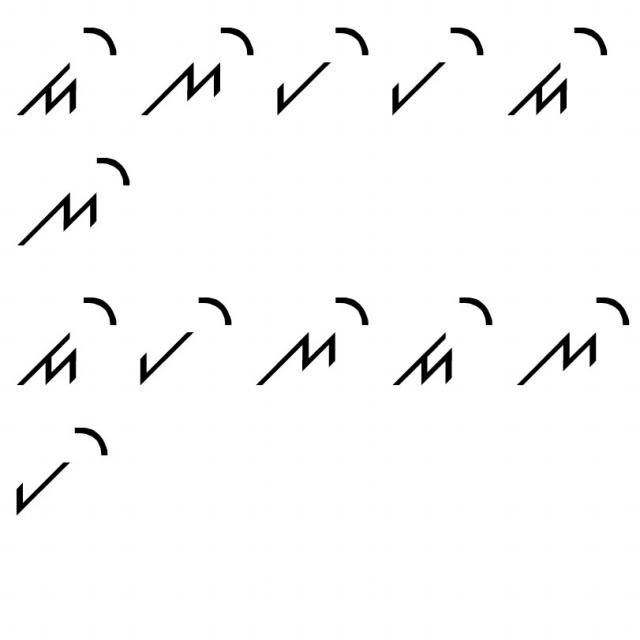day: (384, 288, 500, 400), (13, 287, 121, 404), (16, 14, 120, 123), (506, 19, 611, 123)
nay: (10, 142, 134, 253), (256, 284, 376, 397), (516, 288, 630, 392), (140, 16, 256, 118)
pay: (376, 21, 492, 126), (9, 410, 116, 521), (135, 290, 240, 392), (266, 21, 370, 118)
